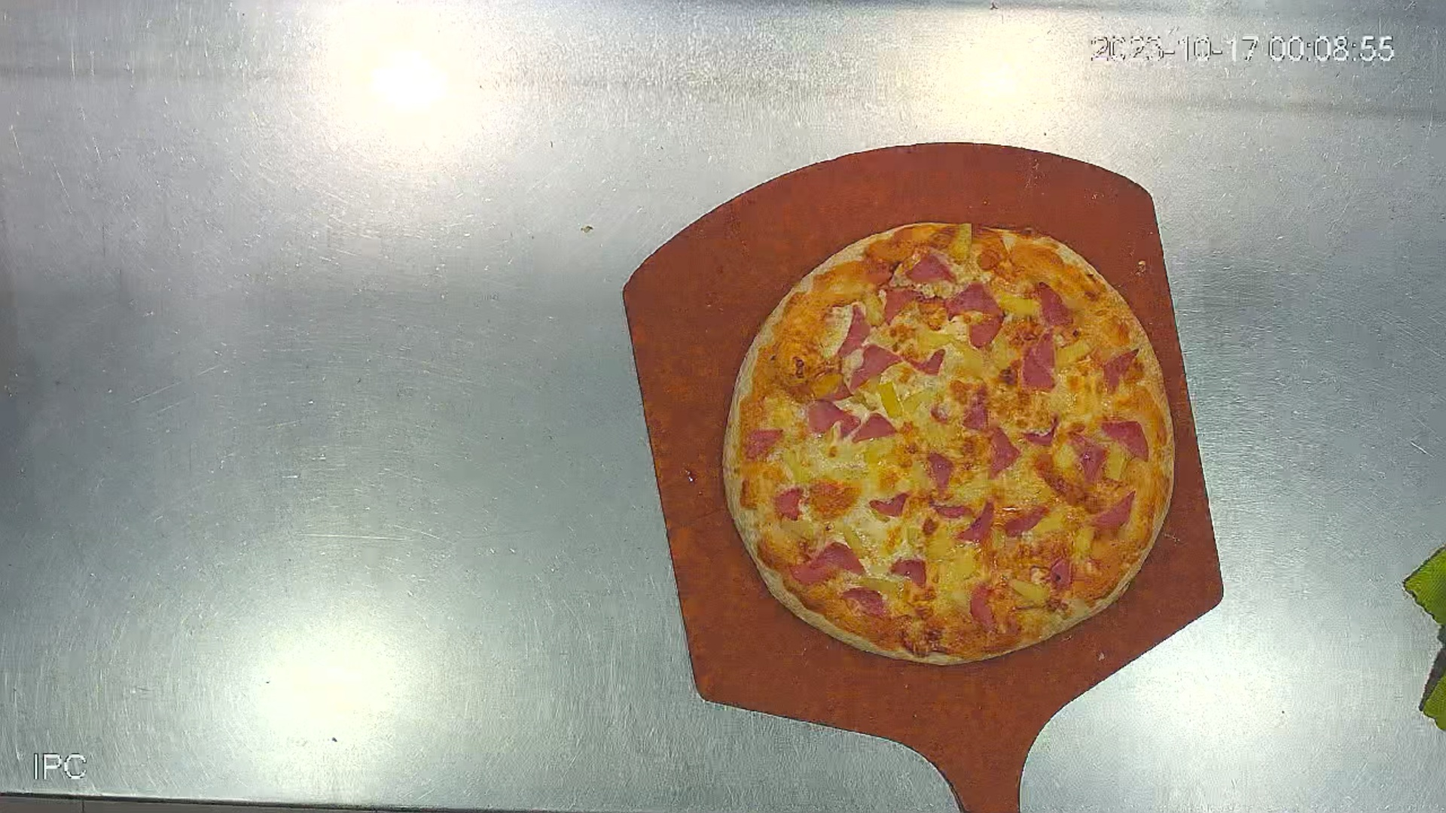hawaiian: (718, 214, 1187, 671)
